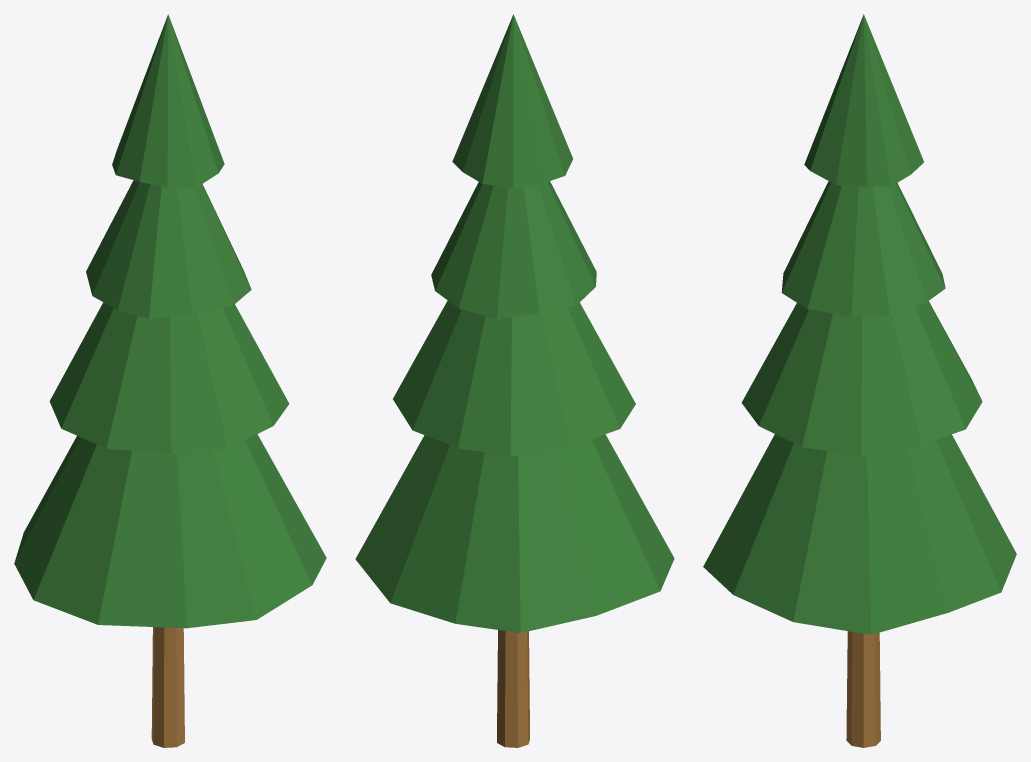
Rendered from tree_01.fbx.
3 views of the same model, side by side, from view 1: azimuth 30°, elevation 25°; view 2: azimuth 150°, elevation 25°; view 3: azimuth 270°, elevation 25° (orthographic).
Visible parts, largest first — view 1: Tree; view 2: Tree; view 3: Tree.
Part boxes in pixels (x1=…): Tree: x1=14, y1=14, x2=326, y2=747; Tree: x1=355, y1=14, x2=674, y2=747; Tree: x1=703, y1=14, x2=1016, y2=747.
Bounding box in the file's own units: 532 × 1334 × 522.
